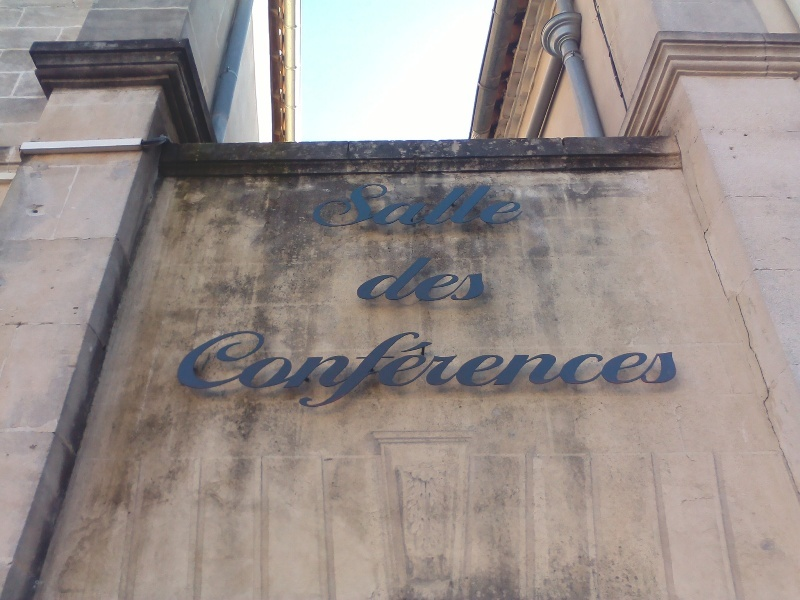text: (193, 328, 208, 412), (209, 328, 224, 412), (225, 328, 240, 412), (241, 328, 256, 412), (257, 328, 272, 412), (273, 328, 288, 412), (289, 328, 304, 412), (305, 328, 320, 412), (321, 328, 336, 412), (337, 328, 352, 412), (353, 328, 368, 412), (369, 328, 384, 412), (385, 328, 400, 412), (401, 328, 416, 412), (417, 328, 432, 412), (433, 328, 448, 412), (449, 328, 464, 412), (465, 328, 480, 412), (481, 328, 496, 412), (497, 328, 512, 412), (513, 328, 528, 412), (529, 328, 544, 412), (545, 328, 560, 412), (561, 328, 576, 412), (577, 328, 592, 412), (593, 328, 608, 412), (609, 328, 624, 412), (625, 328, 640, 412), (641, 328, 656, 412), (657, 328, 672, 412), (673, 328, 687, 412), (180, 328, 192, 412), (321, 181, 336, 228), (337, 181, 352, 228), (353, 181, 368, 228), (369, 181, 384, 228), (385, 181, 400, 228), (401, 181, 416, 228), (417, 181, 432, 228), (433, 181, 448, 228), (449, 181, 464, 228), (465, 181, 480, 228), (481, 181, 496, 228), (497, 181, 512, 228), (369, 256, 384, 302), (385, 256, 400, 302), (401, 256, 416, 302), (417, 256, 432, 302), (433, 256, 448, 302), (449, 256, 464, 302), (465, 256, 480, 302), (513, 181, 526, 228), (358, 256, 368, 302), (316, 181, 320, 228), (481, 256, 484, 302)
